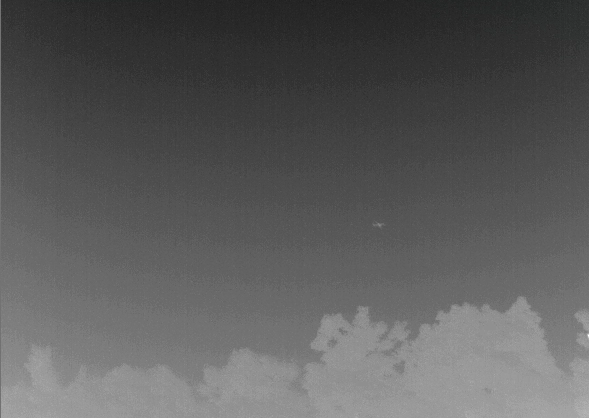dim target: (372, 221, 384, 228)
